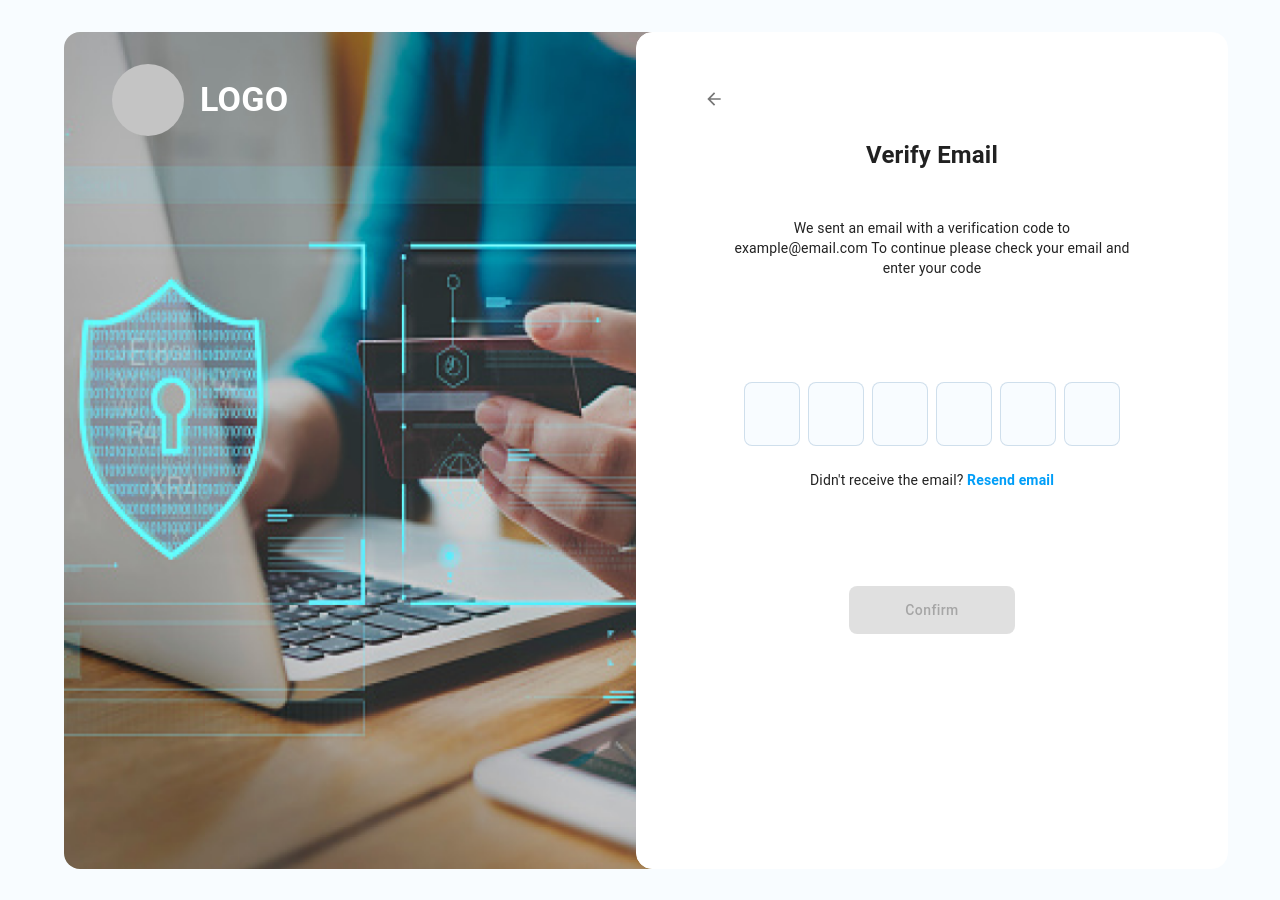
Test: EmailVerification Page › Should Render a PopUp after clicking Resend Code
Click the link with test id "resend-code-btn" at (1011, 480), box [967,472,1054,488]
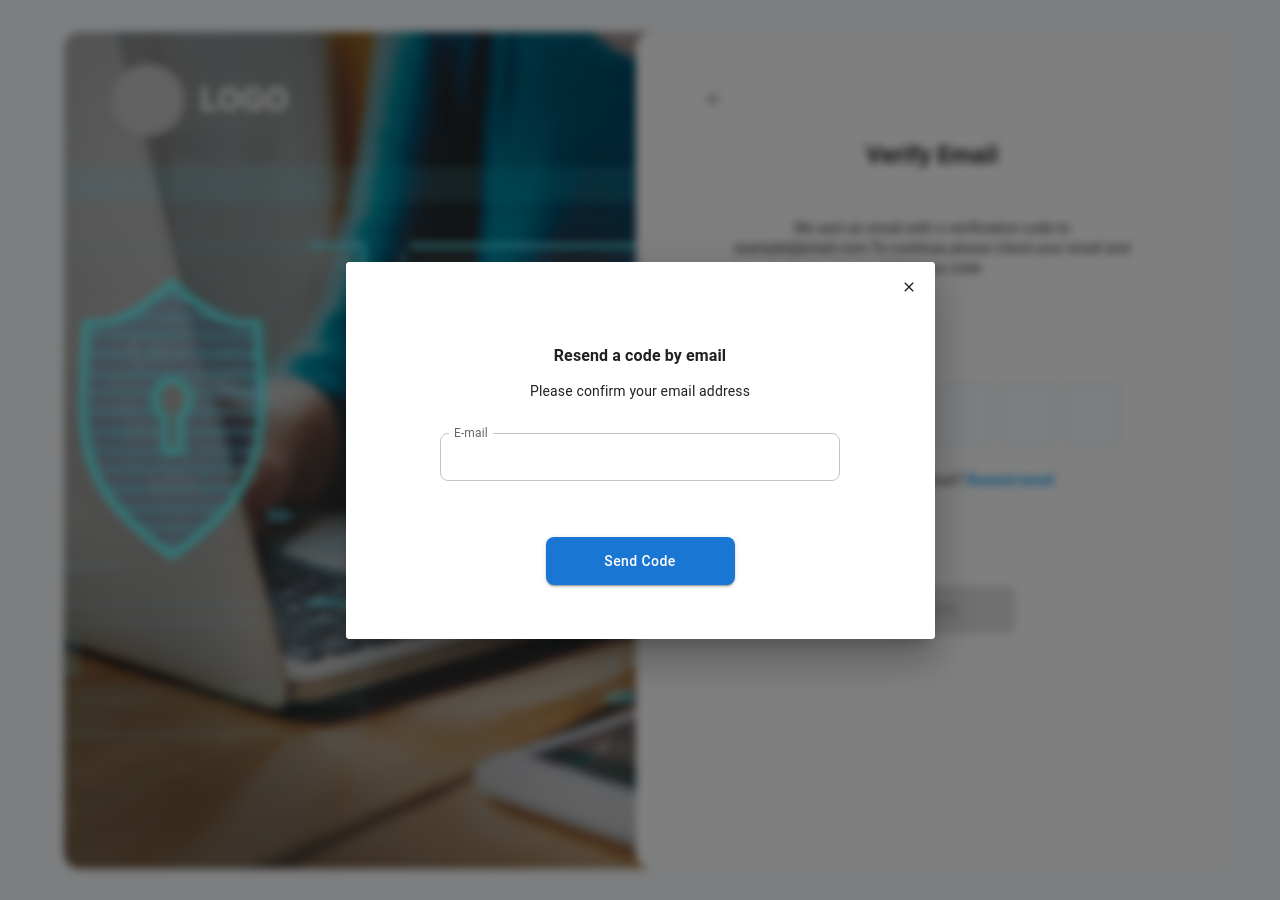
Now the element with test id "popup-component" is shown
Now the heading "Resend a code by email" is shown, box [554,346,726,364]
Now the text "Please confirm your email address" is shown, box [530,383,750,399]
Type "example@gmail.com" into the field labelled "E-mail" at (640, 457), box [440,433,840,481]
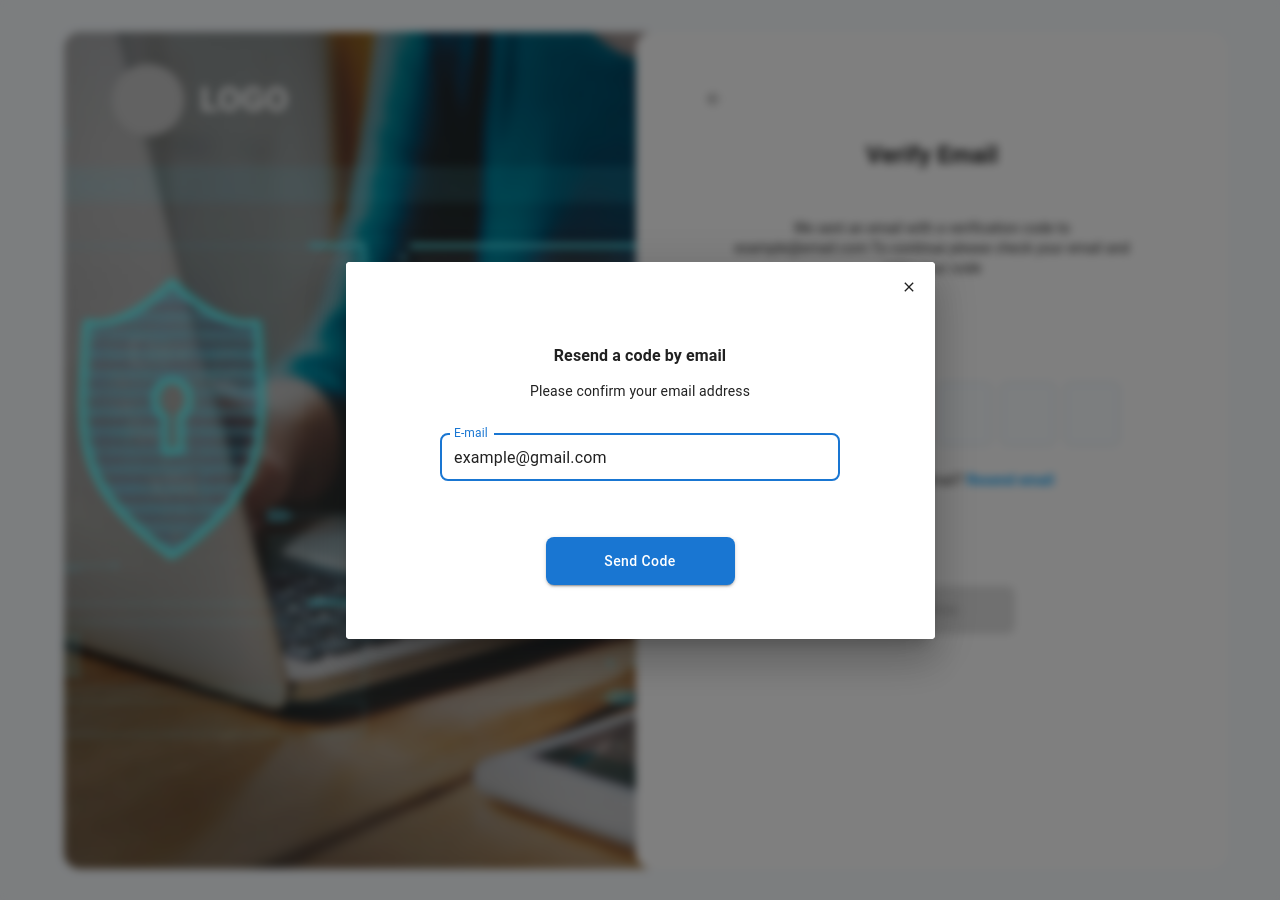
Click the button with test id "code-btn" at (640, 561), box [546,537,734,585]
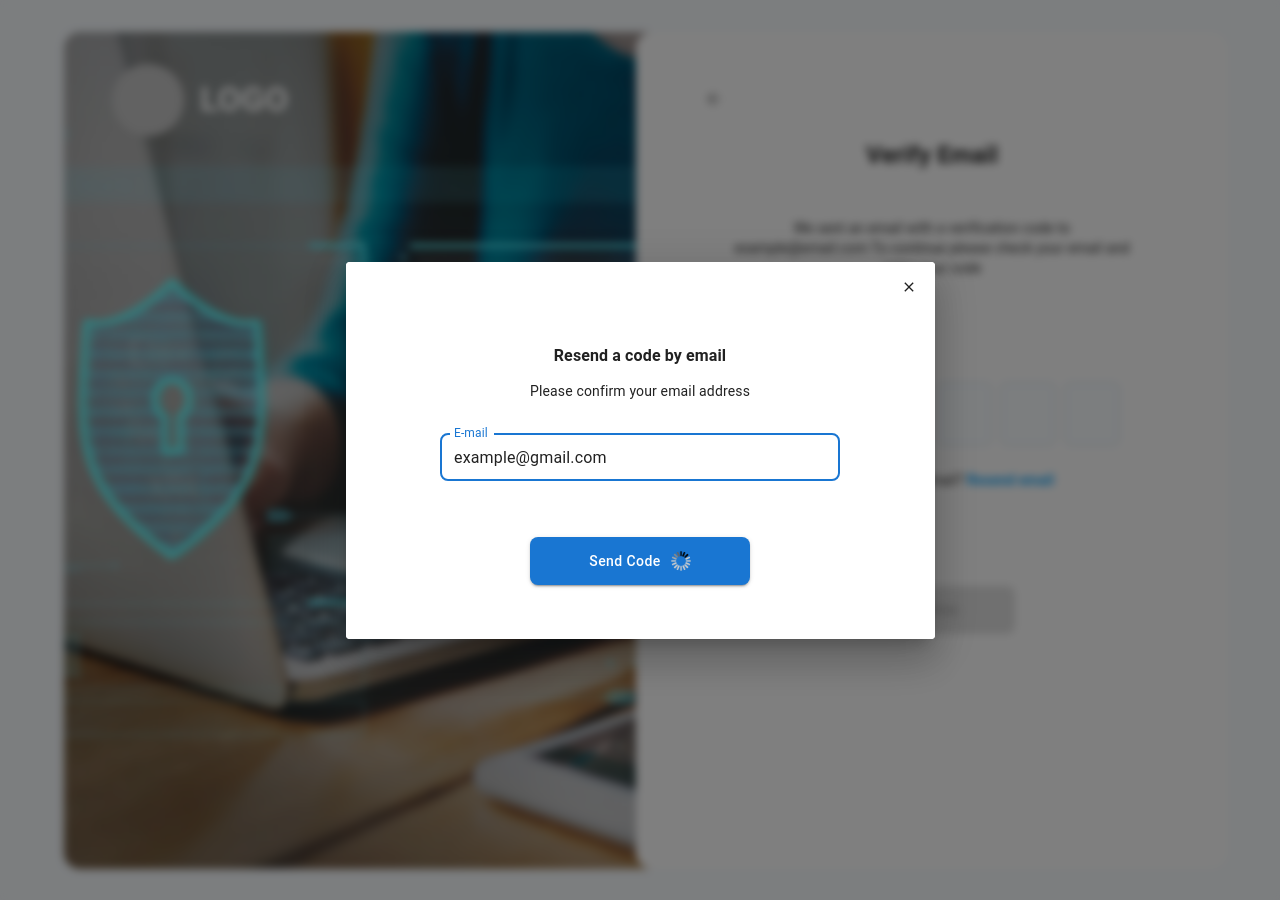
Now the element with test id "loader" is shown, box [671,551,691,571]
